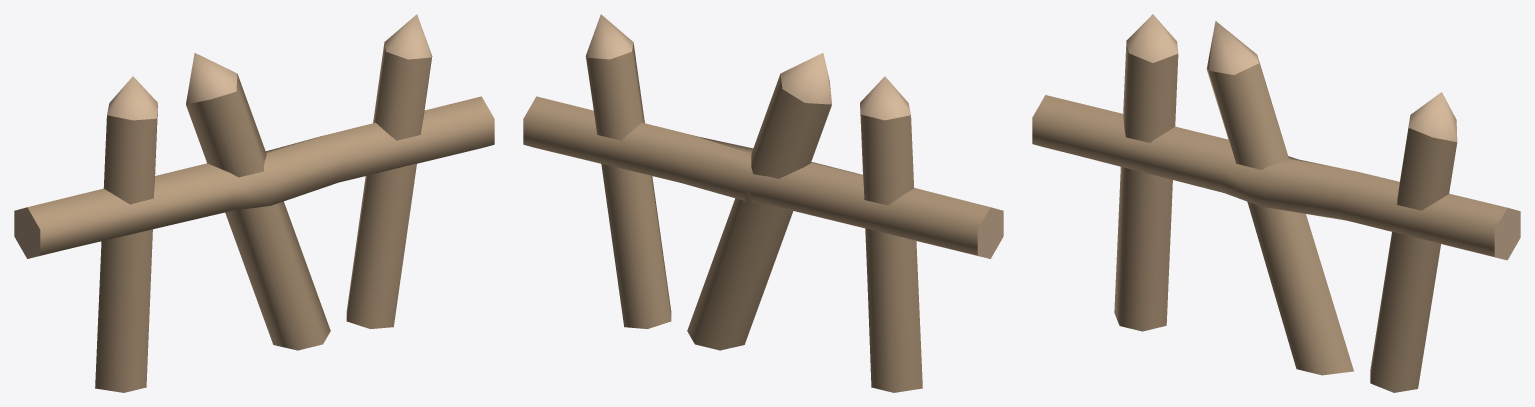
File: Scene_Home_T_Railing_02_SM.fbx
3 renders of one model, left to right at view 1: azimuth 30°, elevation 25°; view 2: azimuth 150°, elevation 25°; view 3: azimuth 330°, elevation 25°, orthographic.
Parts seen in each view (by area): view 1: Scene_Home_T_Railing_02; view 2: Scene_Home_T_Railing_02; view 3: Scene_Home_T_Railing_02.
Boxes of the visible parts, left/top/right/bottom form: Scene_Home_T_Railing_02: left=14, top=14, right=494, bottom=392; Scene_Home_T_Railing_02: left=523, top=14, right=1003, bottom=392; Scene_Home_T_Railing_02: left=1032, top=14, right=1520, bottom=392.
Bounding box in the file's own units: 200 × 132 × 21.95.
Materials: 1 (1 with a texture image).
